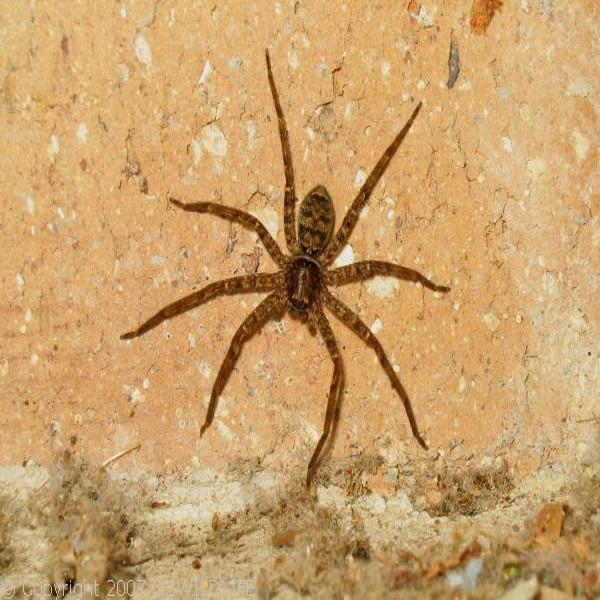Huntsman Spider: (136, 65, 433, 472)
